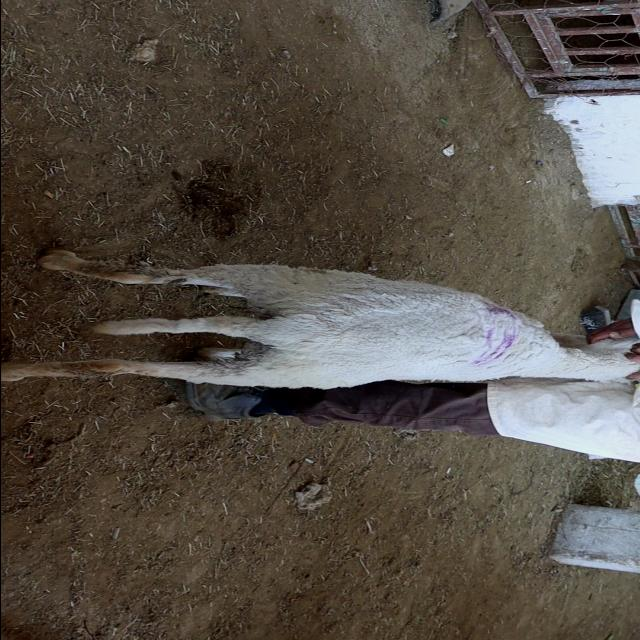Score_3: (1, 249, 640, 389)
